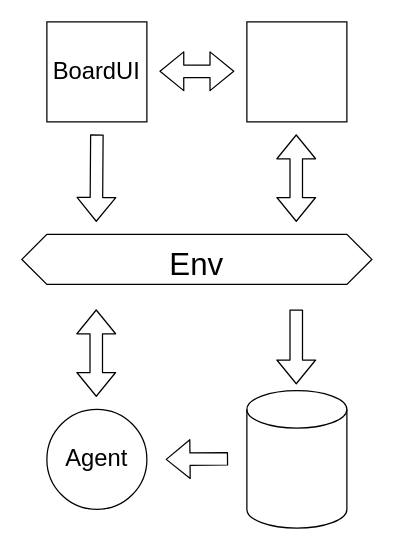
This 394x550 diagram has some shape labels left out. Each missing label, with the box of its shape:
Board: (246, 21, 347, 122)
Memory: (246, 389, 347, 528)
